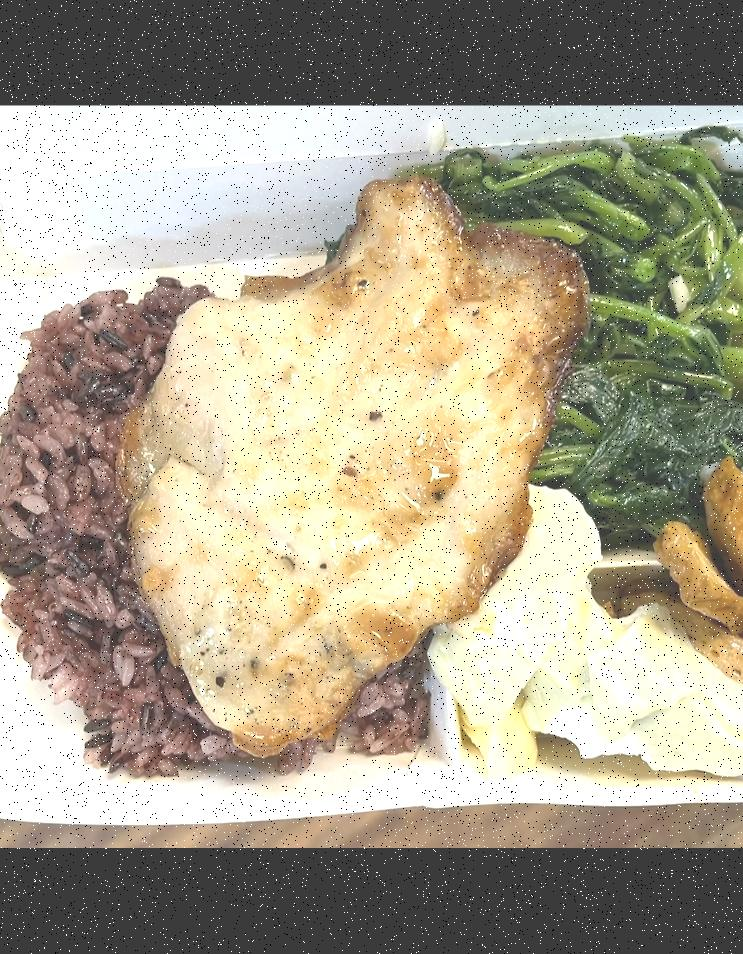big grilled chicken leg: (0, 105, 743, 840)
braised fish: (0, 279, 414, 776)
braised fish fillet: (418, 496, 743, 779), (431, 132, 743, 347), (535, 354, 743, 495), (656, 470, 743, 699)
braised pork: (95, 178, 582, 736)
